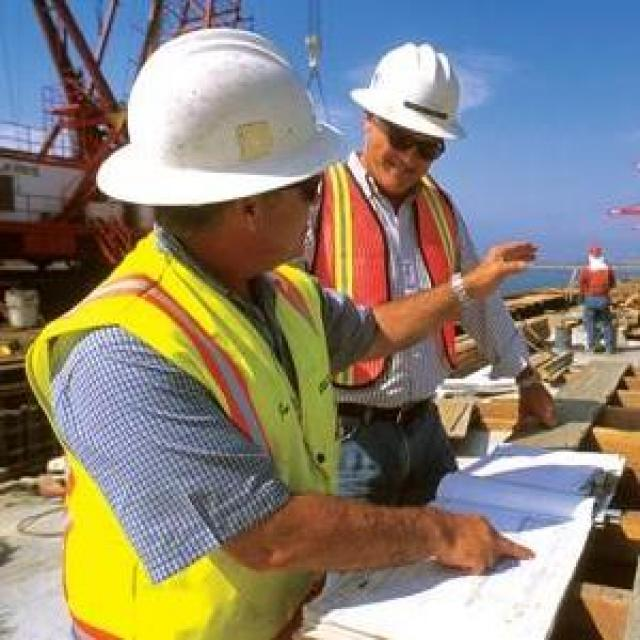Reflective-Jacket: (25, 237, 344, 638), (314, 157, 474, 405), (574, 259, 619, 312)
Safety-Helmet: (94, 29, 337, 215), (346, 33, 472, 146), (576, 232, 612, 264)
